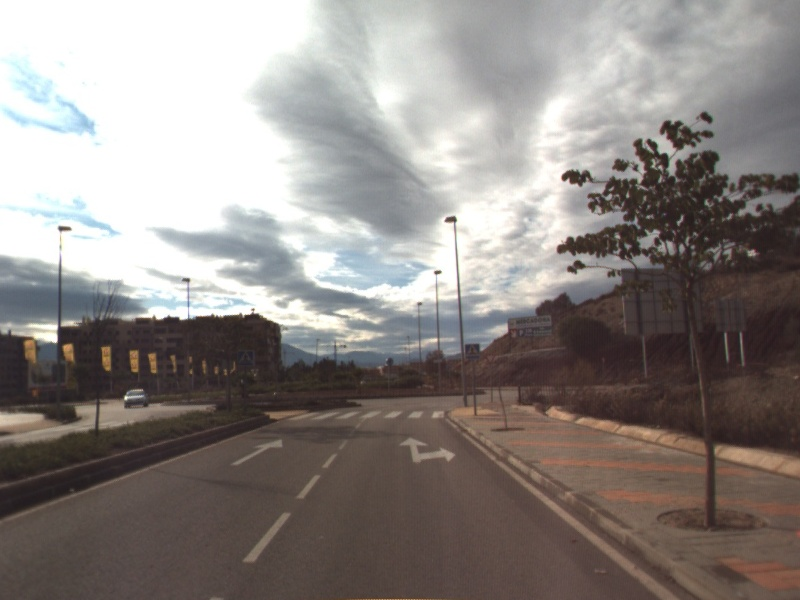STRAIGHT: (229, 437, 285, 467)
STRAIGHT_RIGHT: (397, 435, 458, 465)
